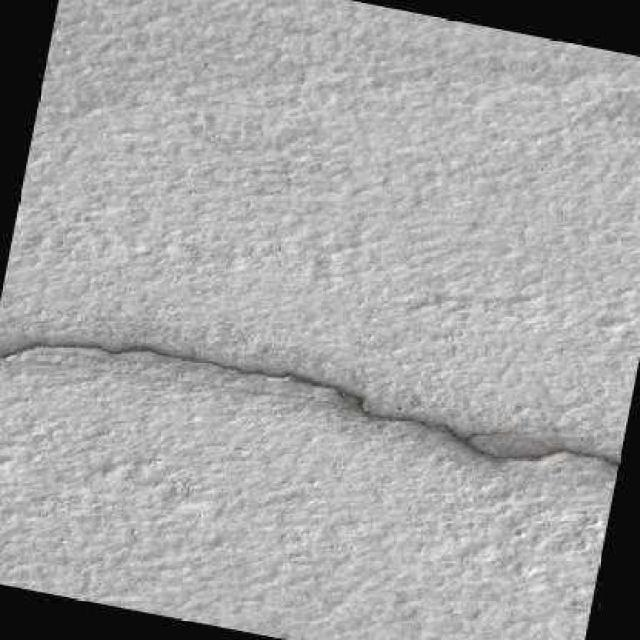D00: (0, 340, 618, 468)
